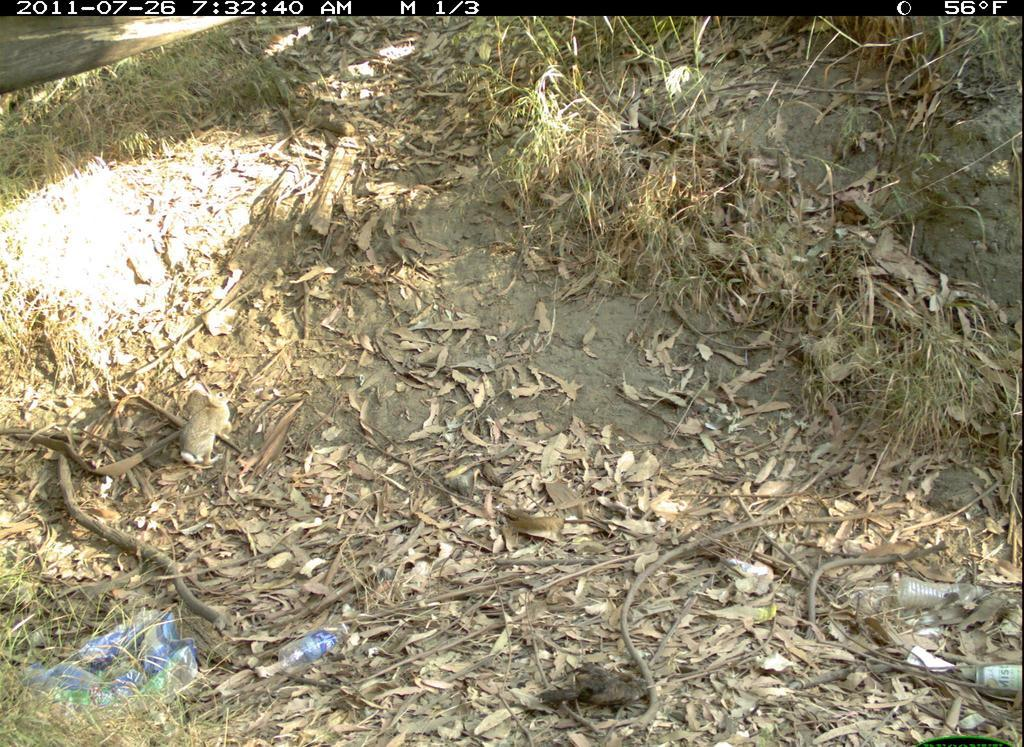rabbit: (155, 376, 242, 469)
